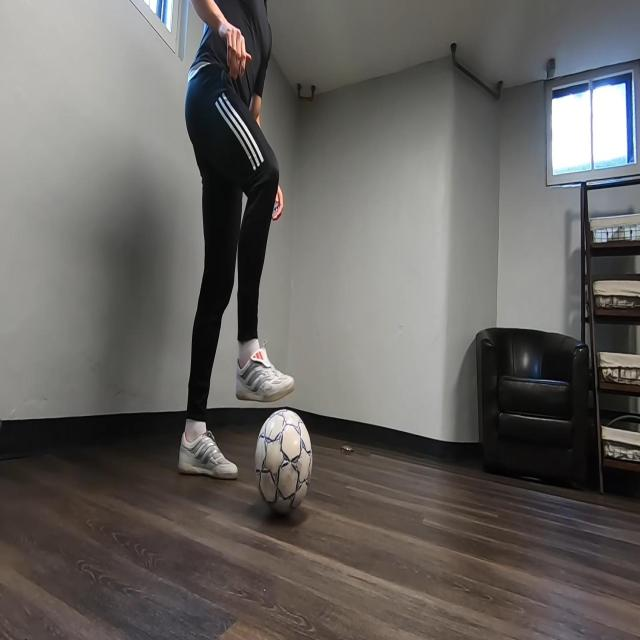Soccer Ball: (254, 409, 313, 517)
